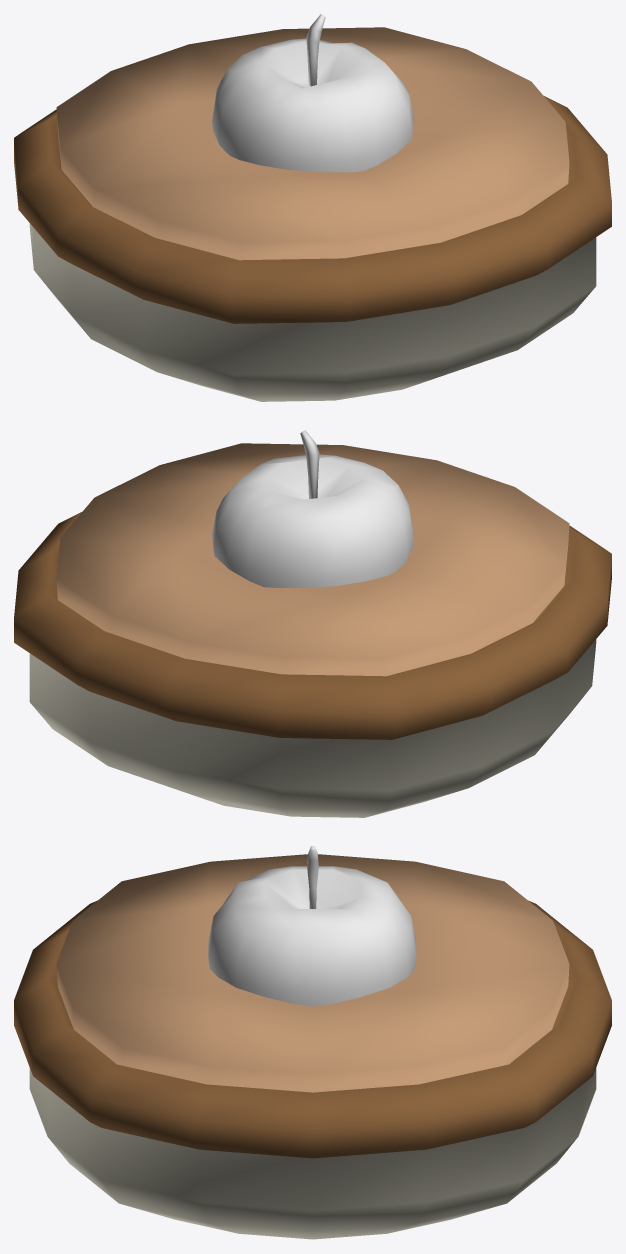
File: pie_apple.fbx
3 views of the same model, one above another, from view 1: azimuth 30°, elevation 25°; view 2: azimuth 150°, elevation 25°; view 3: azimuth 270°, elevation 25° (orthographic). The views are drawn at different scales.
Parts seen in each view (by area): view 1: ApplePie, Apple01, Apple02; view 2: ApplePie, Apple01, Apple02; view 3: ApplePie, Apple01, Apple02.
Part boxes in pixels (x1,y1,x2,y2): ApplePie: (14,27,611,401); Apple01: (212,38,413,172); Apple02: (306,14,325,86); ApplePie: (14,443,611,817); Apple01: (212,454,413,587); Apple02: (300,430,319,498); ApplePie: (14,854,611,1239); Apple01: (208,866,416,1006); Apple02: (307,846,318,908).
Size of the model in its own units: 346 by 200 by 340.
